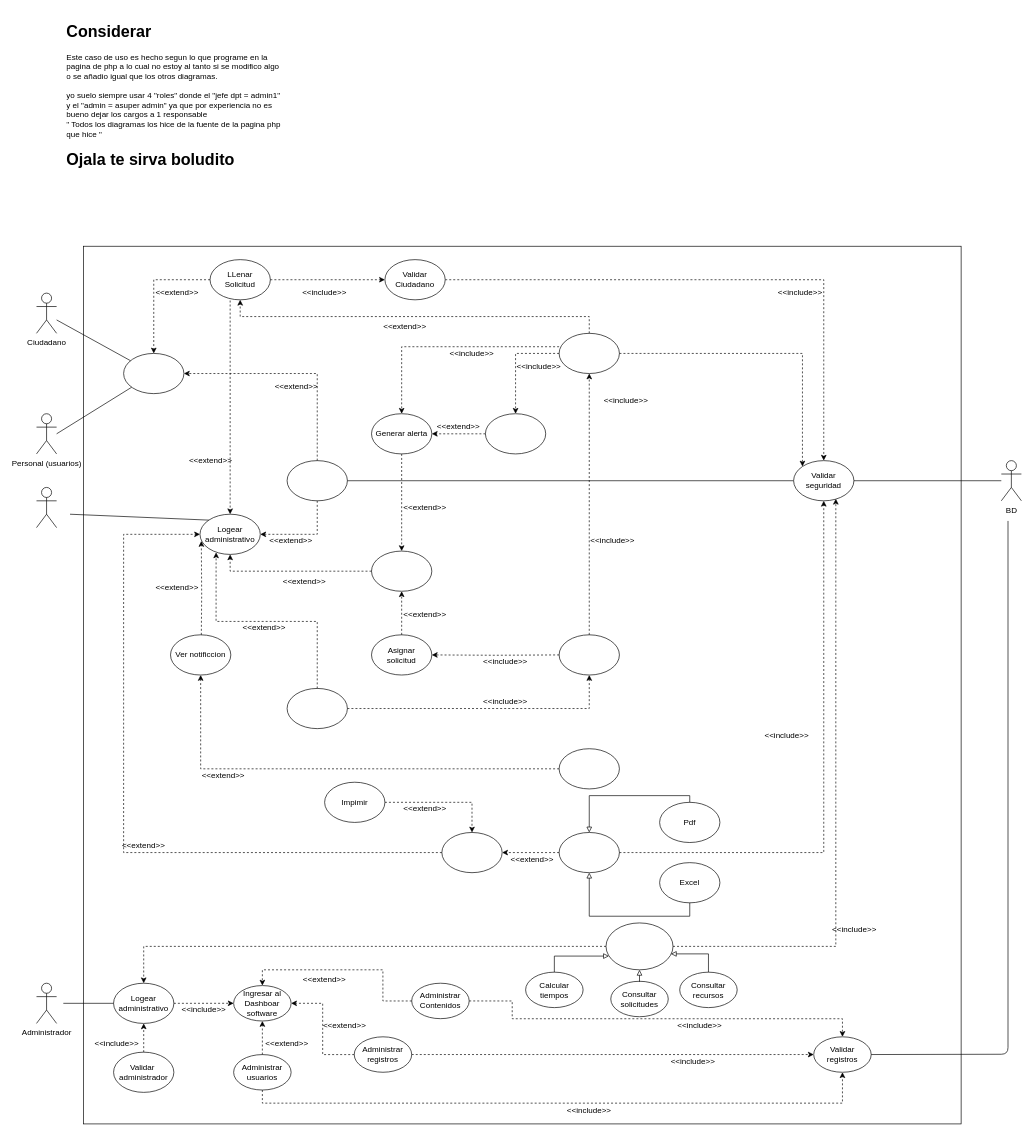
Some shapes in this 1033 by 1136 pixel diagram are drawn without their labels. The shapes that lost their labels are listed below. From the top down, each one's centre as x and y in pixels, then its label:
the point at 153,373: Logear General
the point at 588,353: Enviar solicitud
the point at 515,433: Gestionar tiempo
the point at 316,480: Revisar estado
the point at 46,507: Jefe departamento
the point at 401,570: Revisar alerta
the point at 588,654: Modificar estado de solicitud
the point at 316,708: Cerrar solicitud
the point at 588,768: Generar notificacion
the point at 471,852: Generar Documentos
the point at 588,852: Exportar
the point at 639,946: Consultar situacion actual
